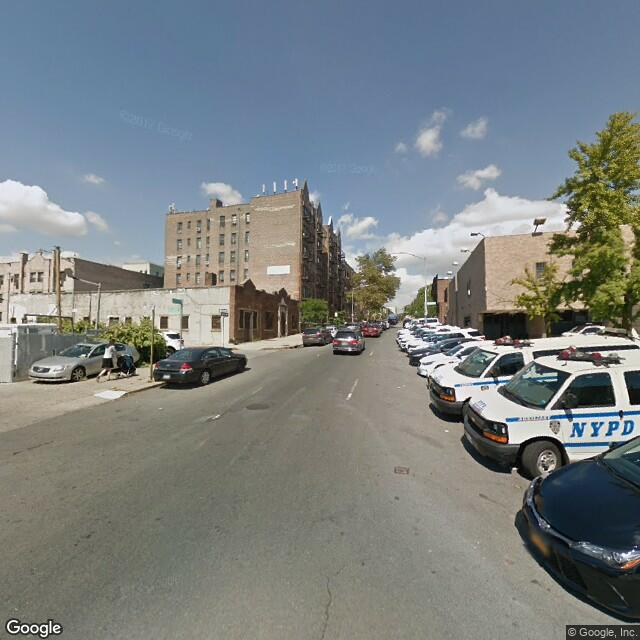litter: (442, 427, 451, 435), (157, 405, 164, 411)
